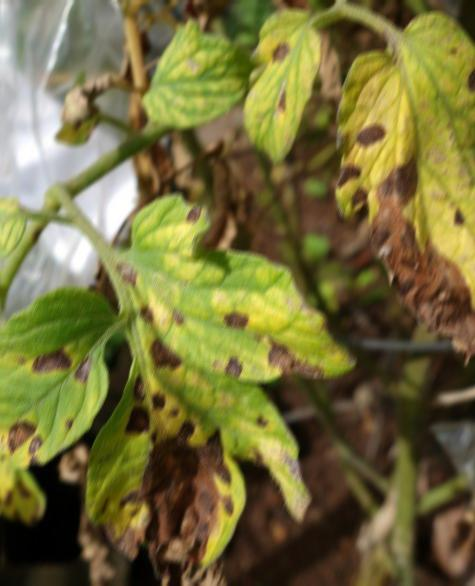Tomato leaf bacterial spot: (336, 0, 475, 382), (103, 198, 354, 385), (0, 285, 122, 470), (239, 8, 327, 158), (137, 20, 248, 127)
